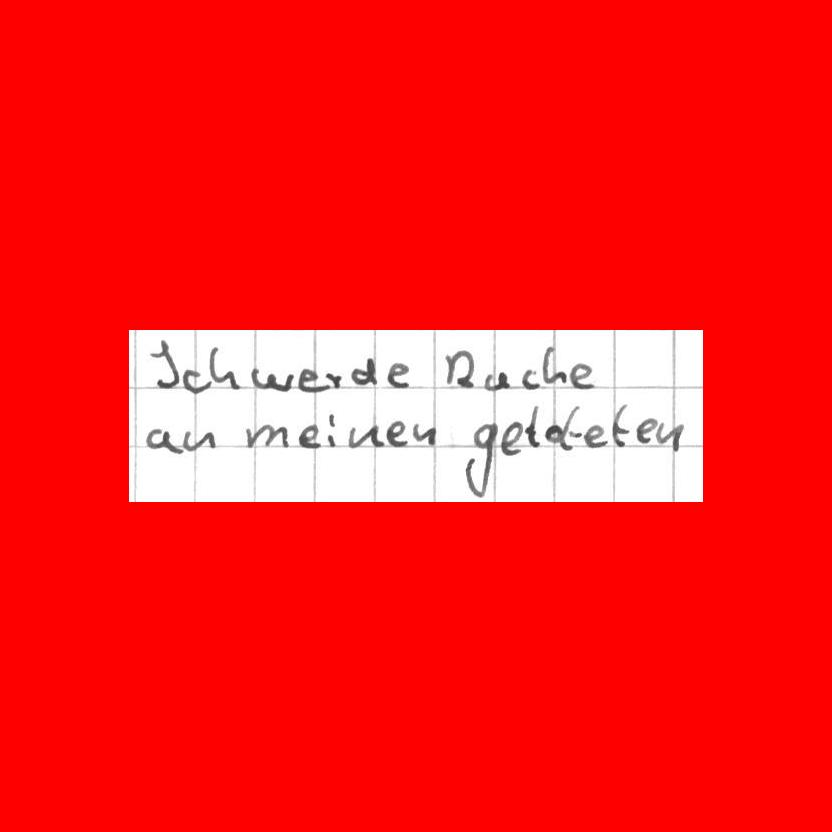Char: (462, 420, 500, 498), (146, 338, 182, 393), (206, 344, 243, 392), (441, 346, 479, 390), (241, 420, 292, 449), (538, 342, 570, 388), (249, 363, 294, 393), (144, 426, 183, 458), (651, 418, 686, 452), (179, 425, 220, 452), (348, 353, 380, 387), (496, 419, 524, 457), (296, 364, 330, 395), (565, 361, 598, 391), (611, 399, 631, 448), (348, 422, 384, 449), (560, 403, 579, 452), (385, 356, 413, 389), (522, 404, 543, 448), (411, 421, 440, 450), (579, 422, 609, 450), (482, 364, 511, 392), (181, 368, 212, 394), (296, 420, 322, 450), (385, 418, 410, 449), (633, 416, 657, 446), (517, 362, 541, 391), (324, 409, 339, 450), (542, 420, 562, 446), (324, 367, 343, 390)
